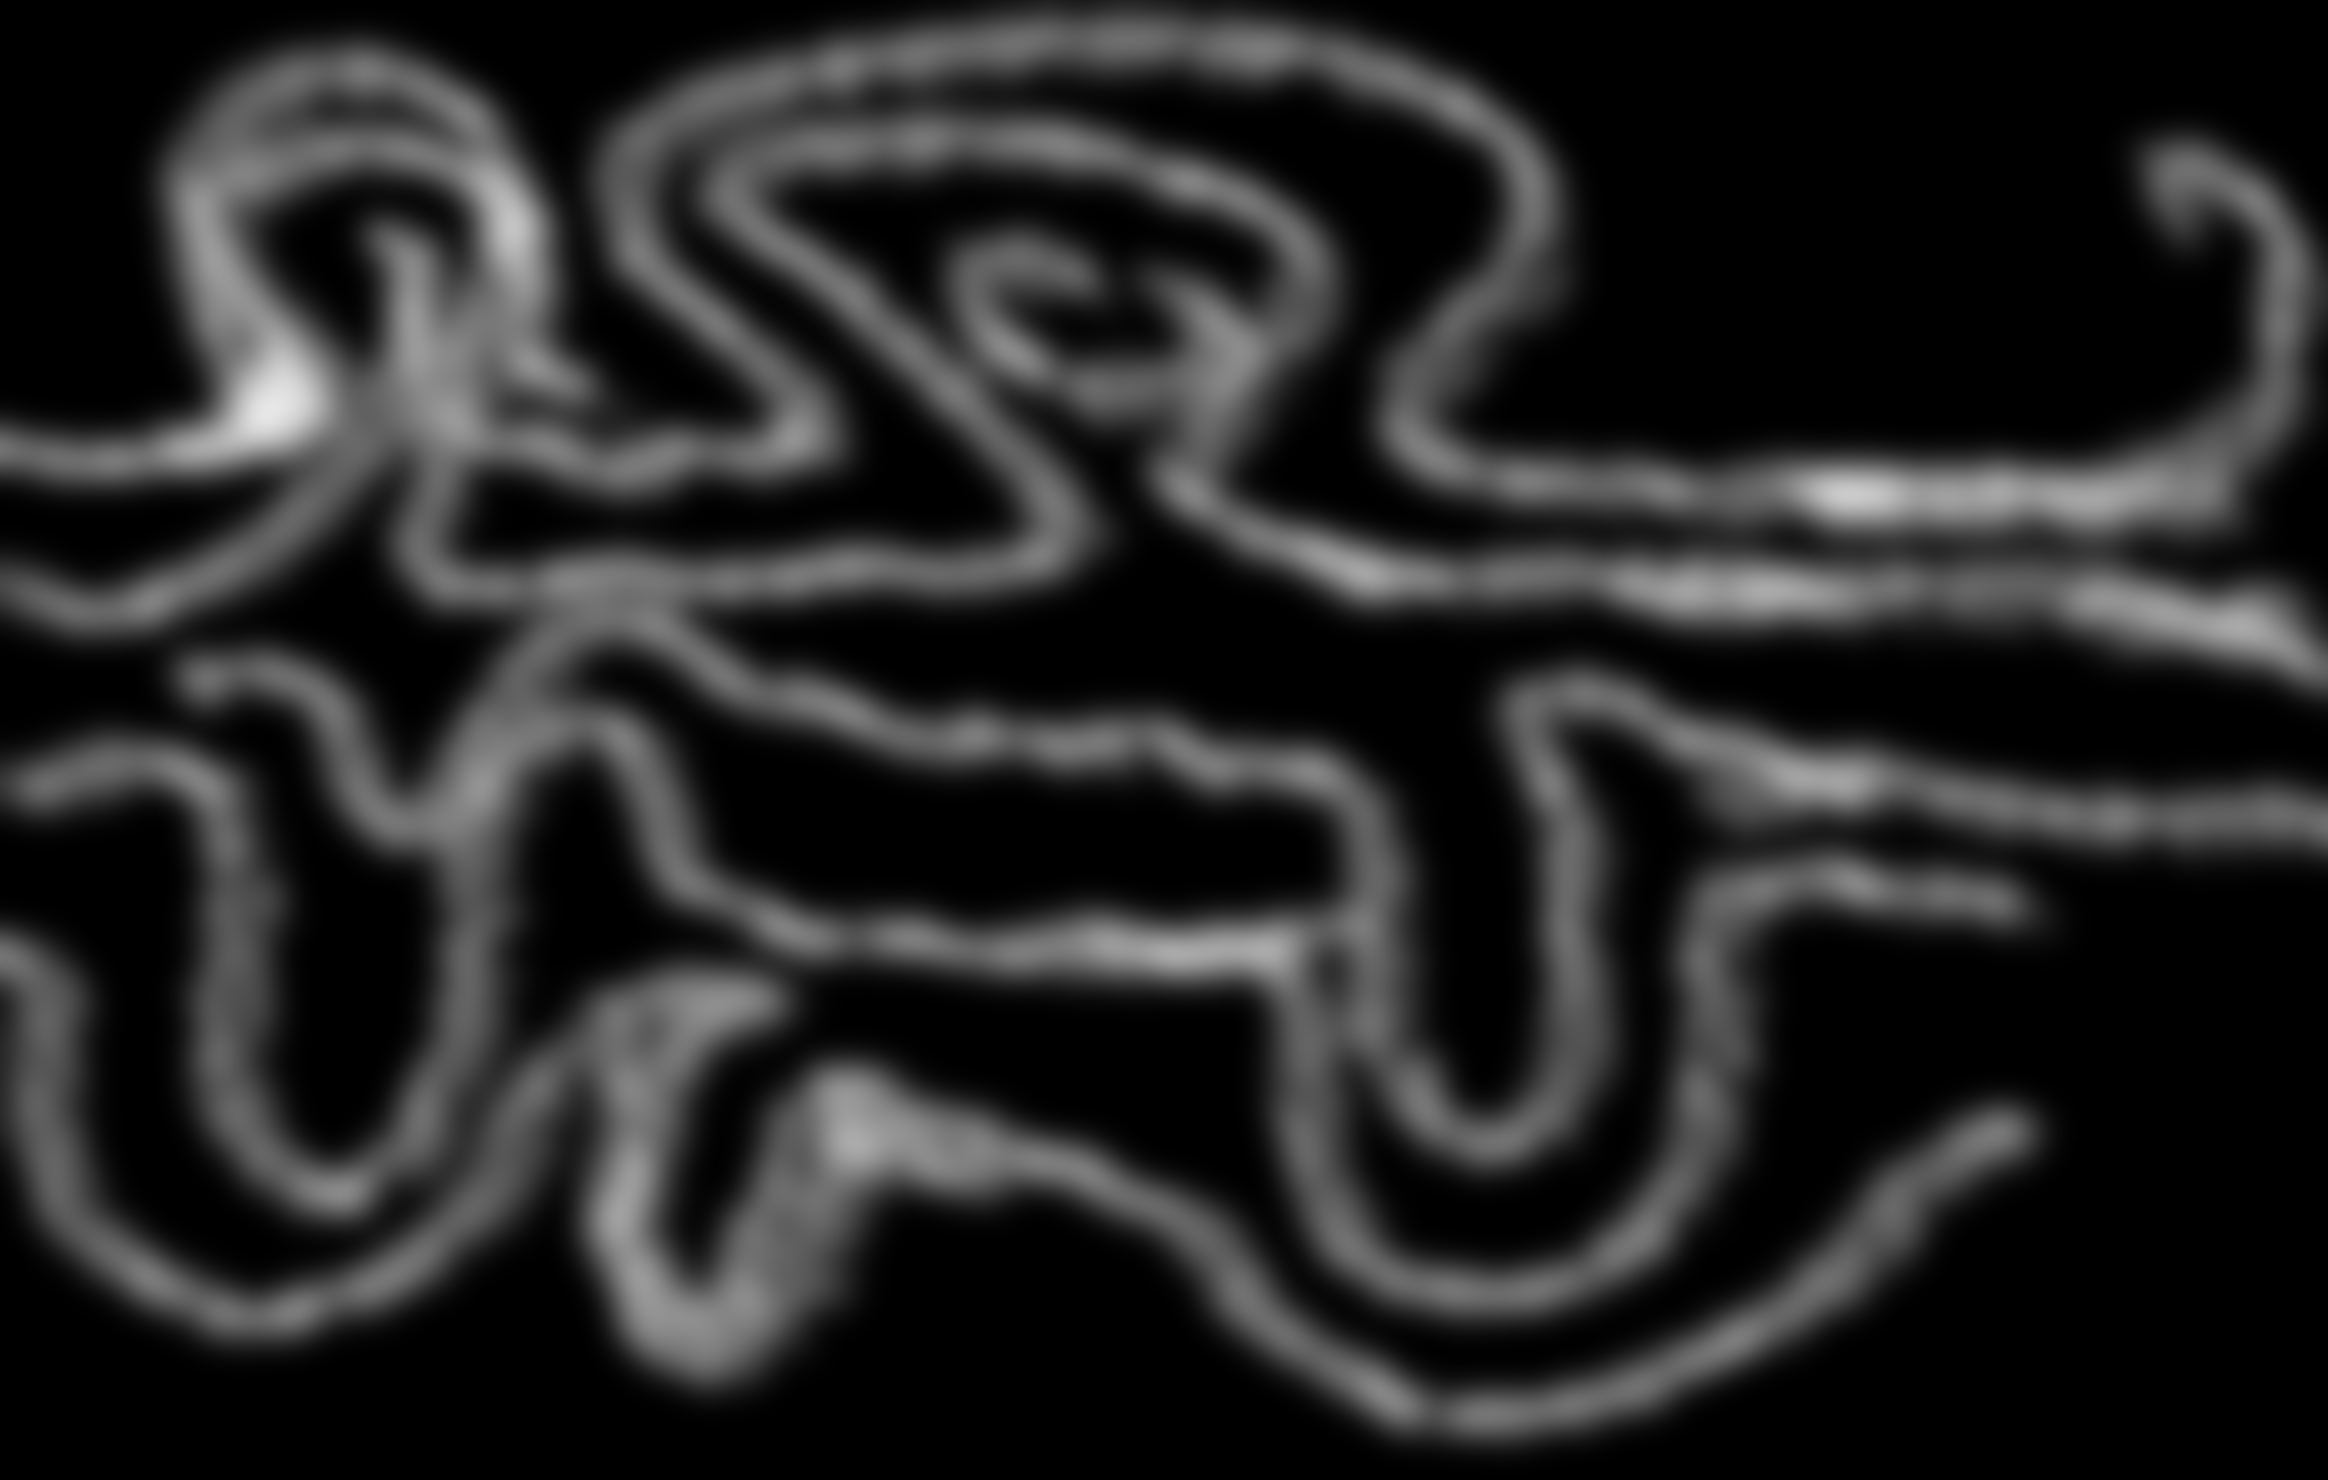turbulence: (42, 32, 2270, 1449)
